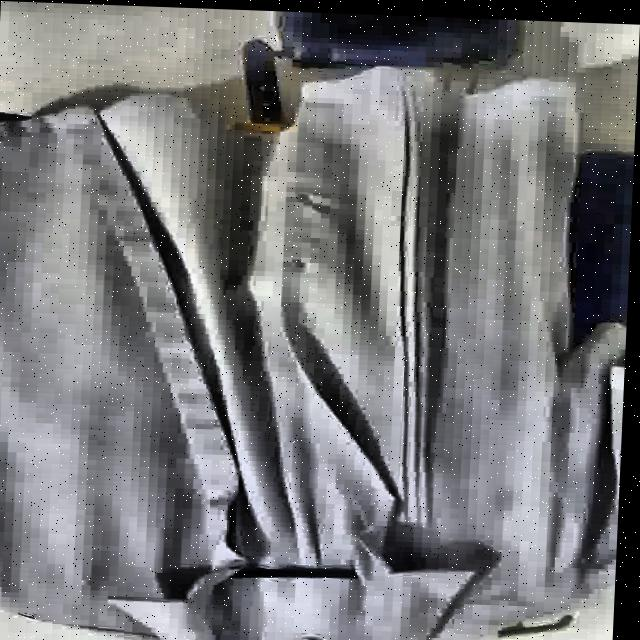clothes: (0, 49, 638, 640)
